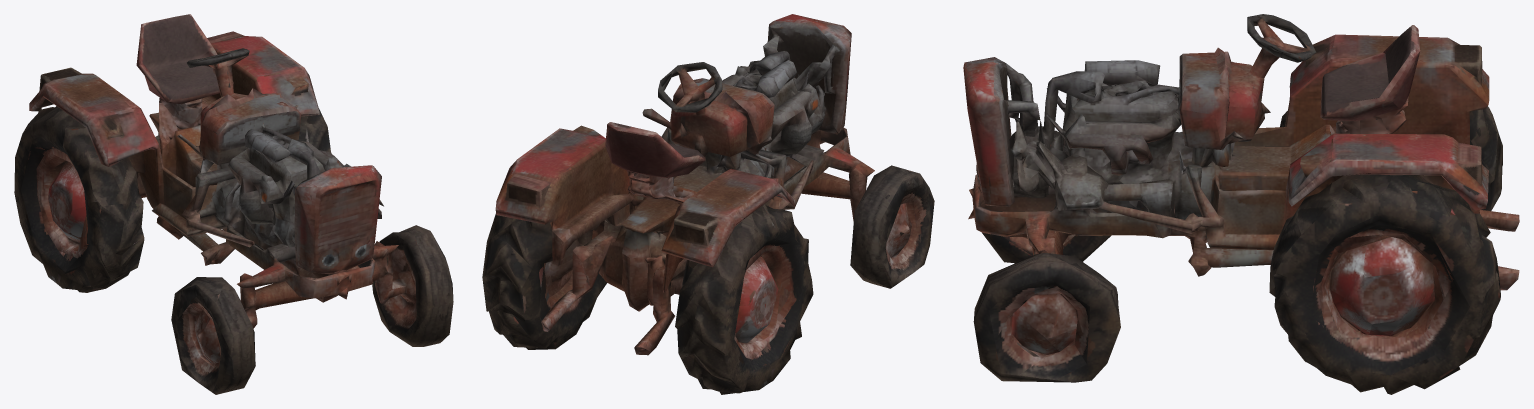
The model's file is field_tractor.glb.
3 renders of one model, left to right at view 1: azimuth 30°, elevation 25°; view 2: azimuth 150°, elevation 25°; view 3: azimuth 270°, elevation 25°, orthographic. The views are drawn at different scales.
Bounding box in the file's own units: 1.78 × 1.79 × 2.91.
1 material, 1 textured.
